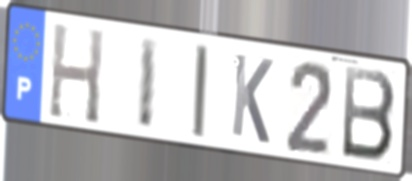2: (285, 58, 337, 160)
B: (339, 63, 399, 166)
H: (46, 19, 107, 128)
I: (135, 34, 161, 133), (190, 42, 211, 140)
K: (228, 49, 275, 147)
